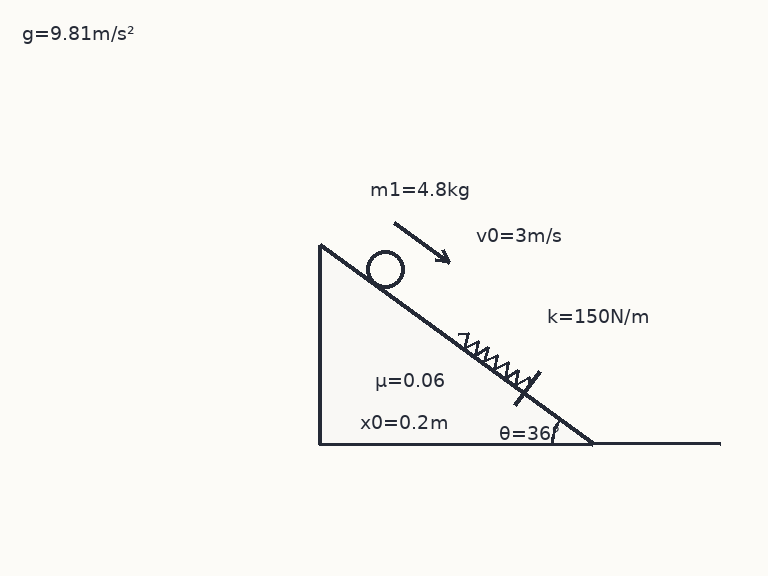ball: (364, 248, 406, 290)
ramp: (317, 243, 594, 445)
spring: (456, 331, 531, 388)
